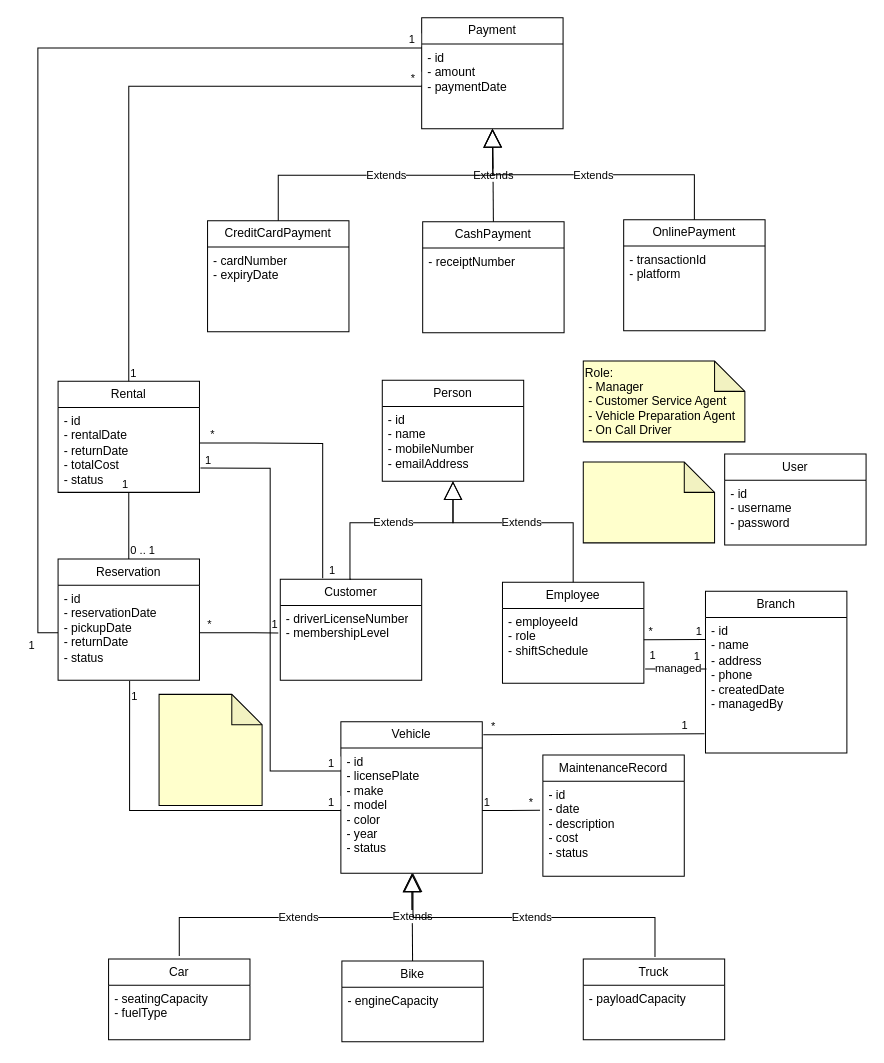
The diagram is 884 pixels wide and 1063 high, and some of its shapes have lost their labels. The centre of each missing label's shape, as x and y in pixels:
"Membership level: - Basic - Medium - VIP" belongs at point (210, 749).
"Shift schedule: - Morning 8 to 4 - Afternoon 4 to 12 - Evening 12 to 8" belongs at point (648, 502).
